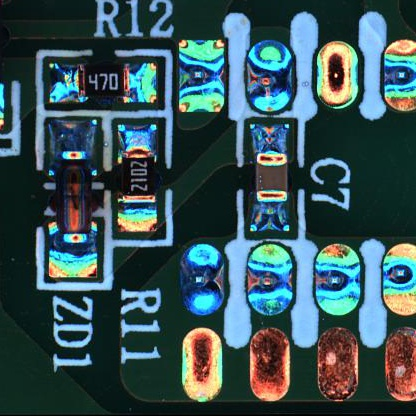spot: (312, 240, 373, 324), (240, 237, 302, 319), (173, 35, 232, 119), (174, 236, 232, 321), (242, 41, 300, 116), (315, 37, 367, 119)
